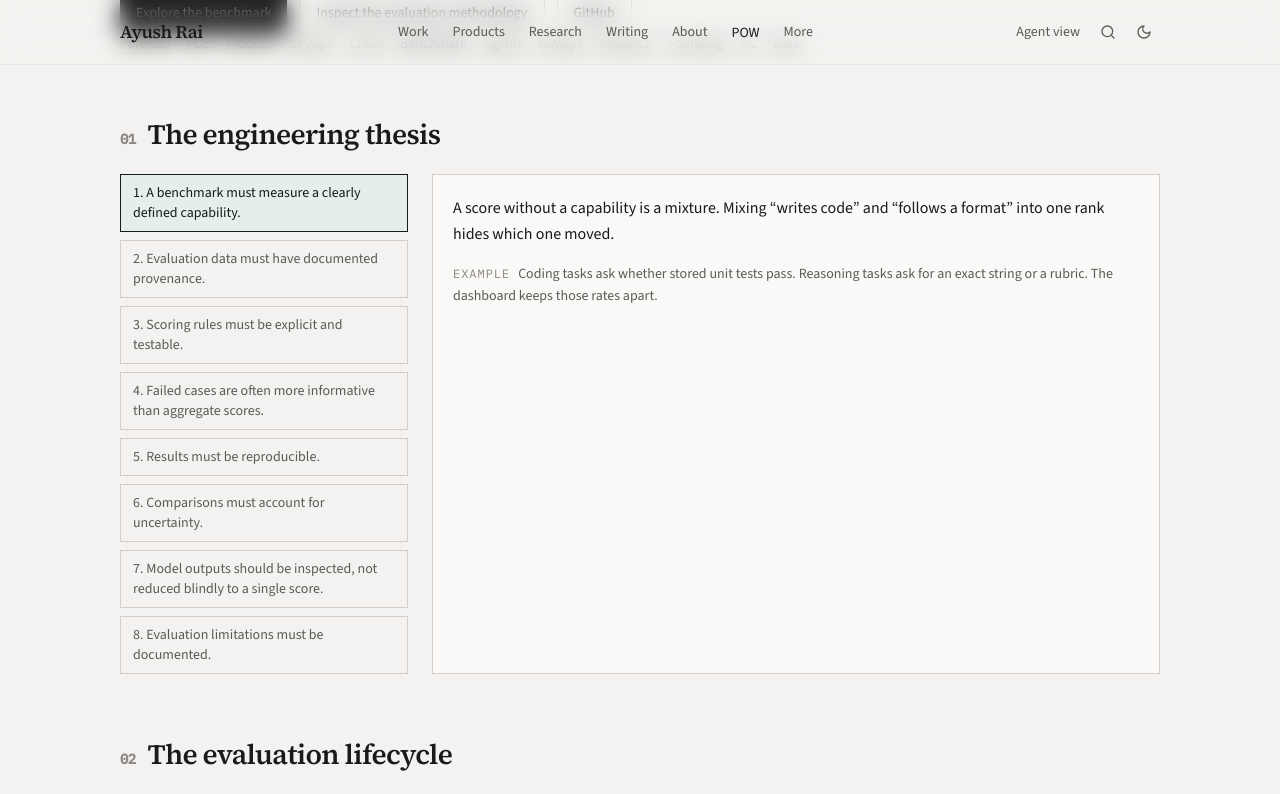
it: AI benchmark engineering page › inspects a principle, a lifecycle stage, and the reasoning specification
(page scrolled)
Click the button "Failed cases are often more informative": (264,400) left=120, top=372, right=408, bottom=430
(page scrolled)
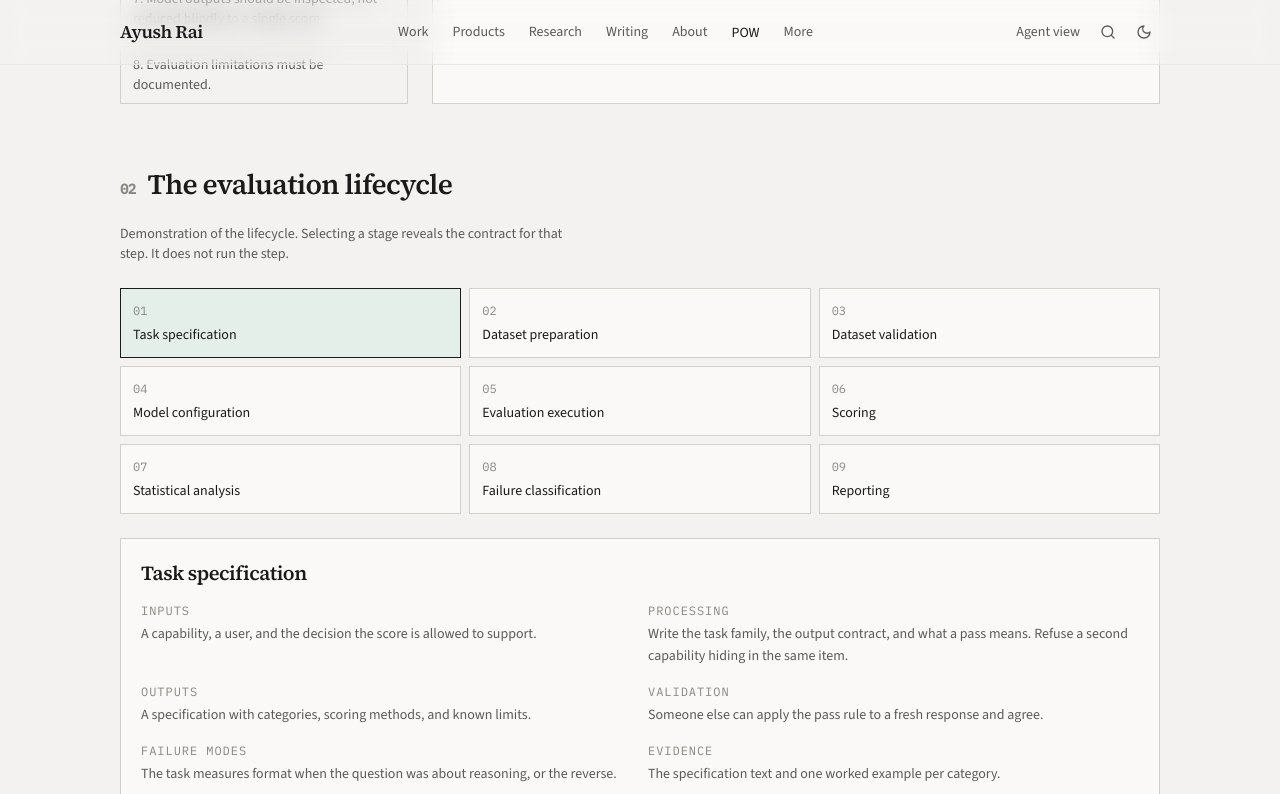
Click the button "06 Scoring": (854,412) left=819, top=366, right=1160, bottom=436
(page scrolled)
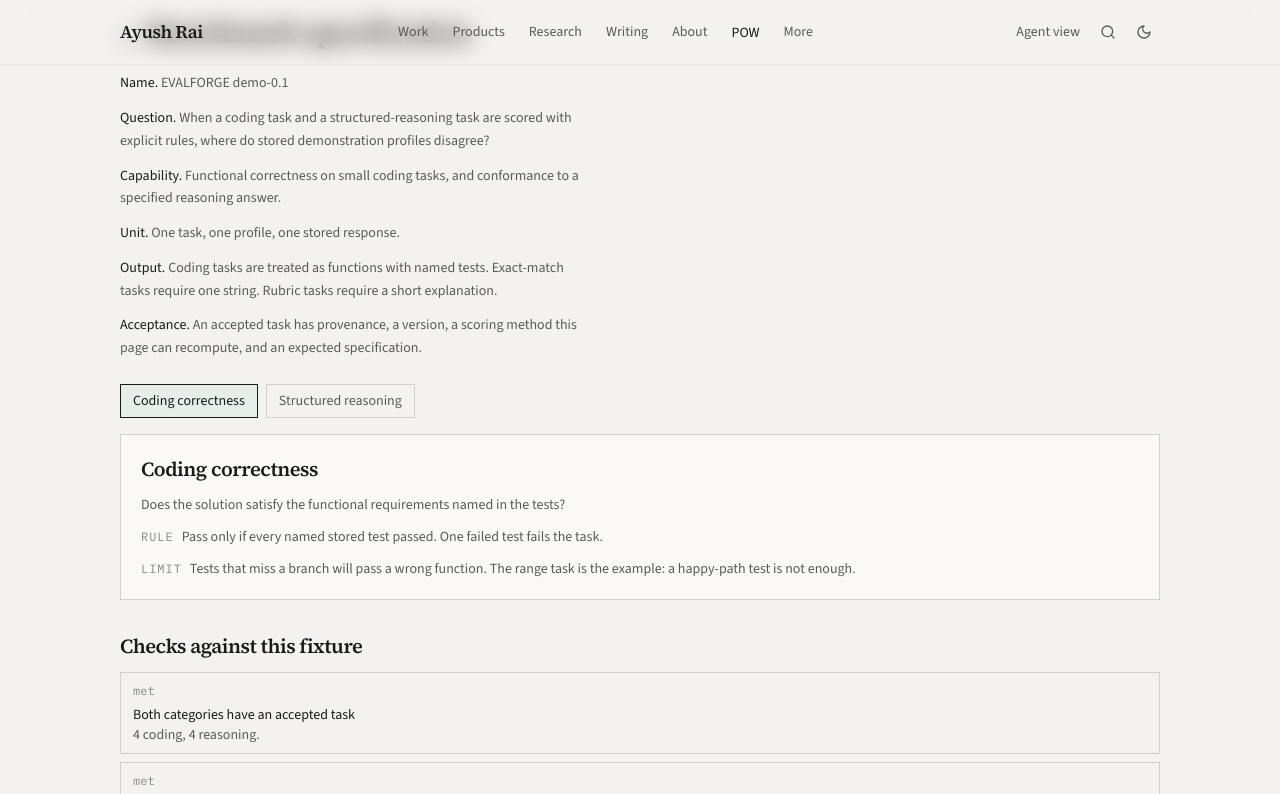
Click the button "Structured reasoning": (340,401) left=266, top=384, right=415, bottom=418
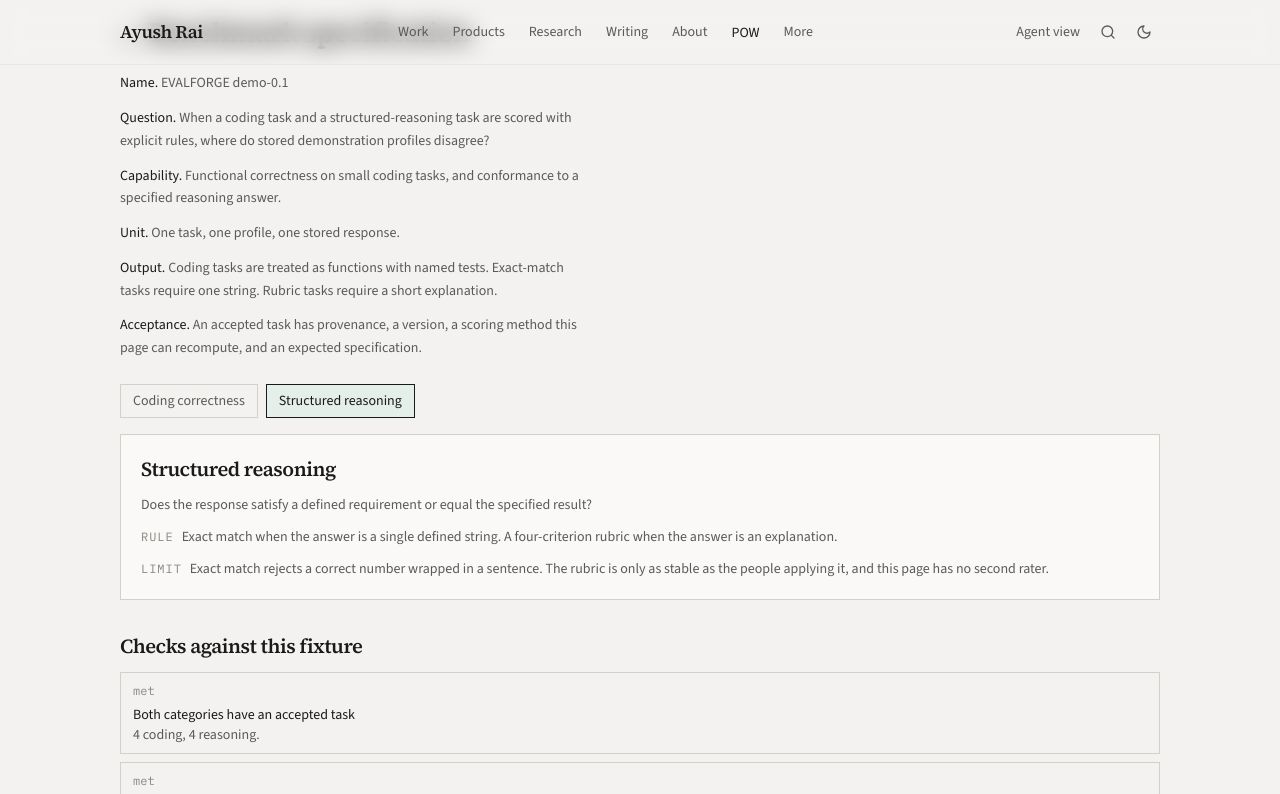
Now the text "Exact match when the answer is a single defined string" is shown, box left=182, top=527, right=838, bottom=546
